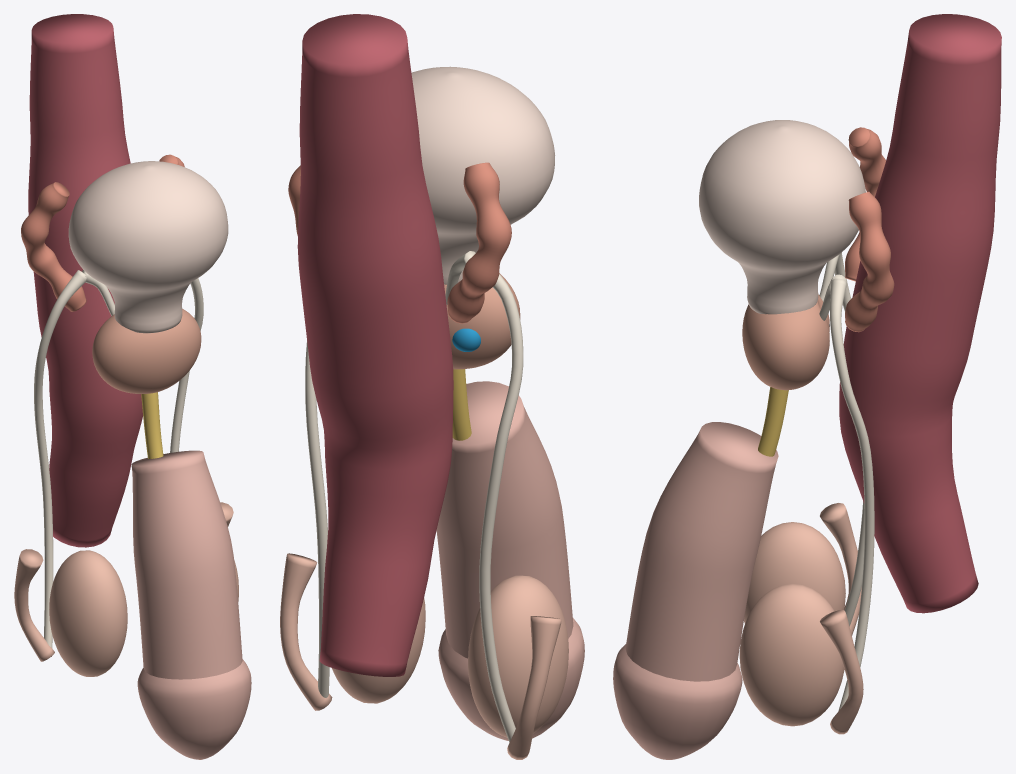
The model's file is prostata.glb.
3 renders of one model, left to right at view 1: azimuth 30°, elevation 25°; view 2: azimuth 150°, elevation 25°; view 3: azimuth 270°, elevation 25°, orthographic. The views are drawn at different scales.
Parts seen in each view (by area): view 1: Rectum, Penis_Shaft_and_Glans, Bladder, Testes_and_Epididymis, Prostate, Vas_Deferens, Seminal_Vesicles, Urethra; view 2: Rectum, Penis_Shaft_and_Glans, Bladder, Testes_and_Epididymis, Vas_Deferens, Seminal_Vesicles, Prostate, Urethra, Pathological_Nodule; view 3: Rectum, Penis_Shaft_and_Glans, Bladder, Testes_and_Epididymis, Seminal_Vesicles, Vas_Deferens, Prostate, Urethra.
Boxes of the visible parts, bbox=[...] form: Rectum: bbox=[28, 14, 142, 547]; Penis_Shaft_and_Glans: bbox=[131, 450, 251, 759]; Bladder: bbox=[68, 161, 228, 333]; Testes_and_Epididymis: bbox=[14, 502, 238, 676]; Prostate: bbox=[92, 309, 201, 393]; Vas_Deferens: bbox=[34, 270, 203, 656]; Seminal_Vesicles: bbox=[21, 154, 184, 311]; Urethra: bbox=[141, 392, 163, 458]; Rectum: bbox=[297, 14, 453, 676]; Penis_Shaft_and_Glans: bbox=[436, 381, 584, 740]; Bladder: bbox=[411, 66, 555, 284]; Testes_and_Epididymis: bbox=[280, 553, 568, 759]; Vas_Deferens: bbox=[305, 251, 523, 742]; Seminal_Vesicles: bbox=[288, 162, 511, 323]; Prostate: bbox=[444, 273, 520, 369]; Urethra: bbox=[452, 369, 471, 440]; Pathological_Nodule: bbox=[452, 328, 480, 351]; Rectum: bbox=[839, 14, 1001, 613]; Penis_Shaft_and_Glans: bbox=[613, 422, 778, 759]; Bladder: bbox=[699, 120, 865, 314]; Testes_and_Epididymis: bbox=[739, 503, 863, 734]; Seminal_Vesicles: bbox=[845, 127, 894, 332]; Vas_Deferens: bbox=[819, 252, 874, 710]; Prostate: bbox=[742, 294, 829, 390]; Urethra: bbox=[758, 387, 788, 456].
Bounding box in the file's own units: 0.0834 × 0.2417 × 0.117.
